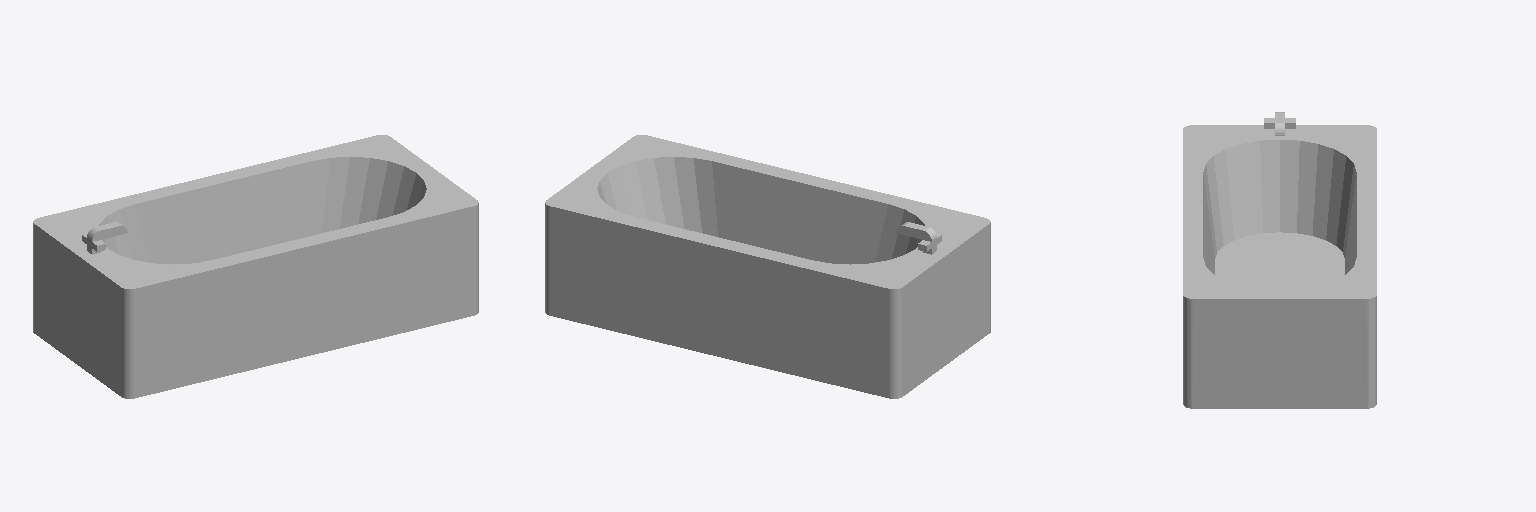
The model's file is bath tub.obj.
3 views of the same model, side by side, from view 1: azimuth 30°, elevation 25°; view 2: azimuth 150°, elevation 25°; view 3: azimuth 270°, elevation 25° (orthographic).
Parts seen in each view (by area): view 1: bathtub; view 2: bathtub; view 3: bathtub.
Part boxes in pixels (x1,y1,x2,y2): bathtub: (33, 135, 478, 398); bathtub: (545, 135, 990, 398); bathtub: (1183, 112, 1376, 408).
Bounding box in the file's own units: 1.19 × 0.4197 × 0.56.